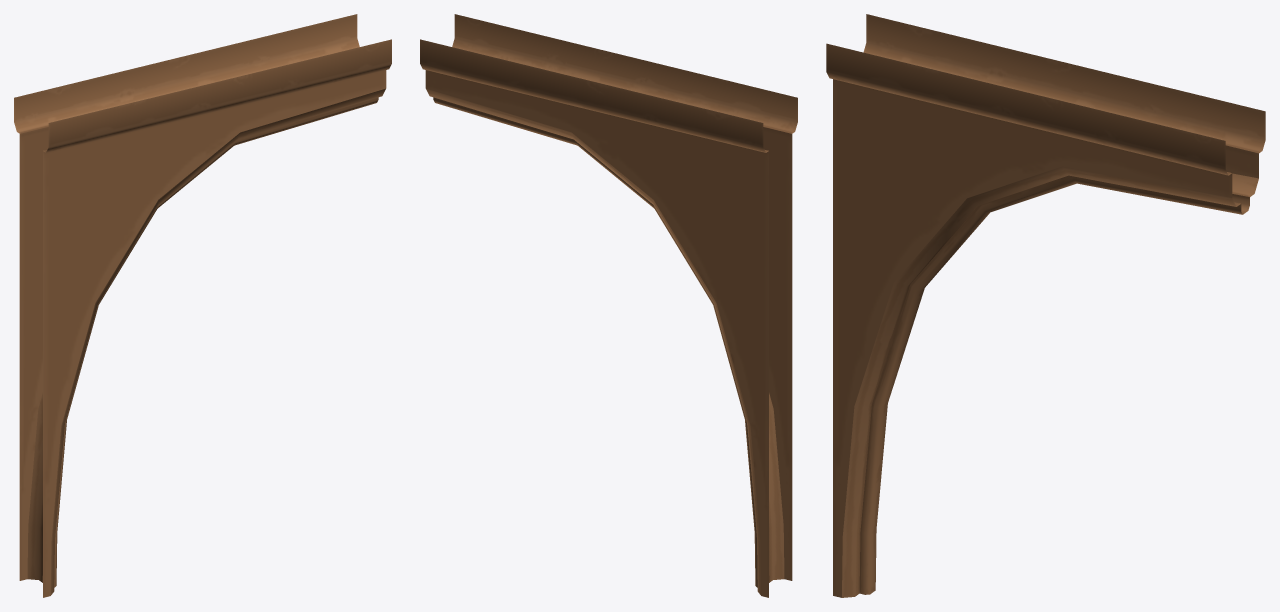
File: ARC0510084.fbx
3 renders of one model, left to right at view 1: azimuth 30°, elevation 25°; view 2: azimuth 150°, elevation 25°; view 3: azimuth 330°, elevation 25°, orthographic. The views are drawn at different scales.
Visible parts, largest first — view 1: smARC0510084; view 2: smARC0510084; view 3: smARC0510084.
Boxes of the visible parts, x1=… form: smARC0510084: x1=14, y1=14, x2=391, y2=597; smARC0510084: x1=420, y1=14, x2=797, y2=597; smARC0510084: x1=826, y1=14, x2=1265, y2=597.
Bounding box in the file's own units: 225 × 300 × 39.29.
1 material, 1 textured.
